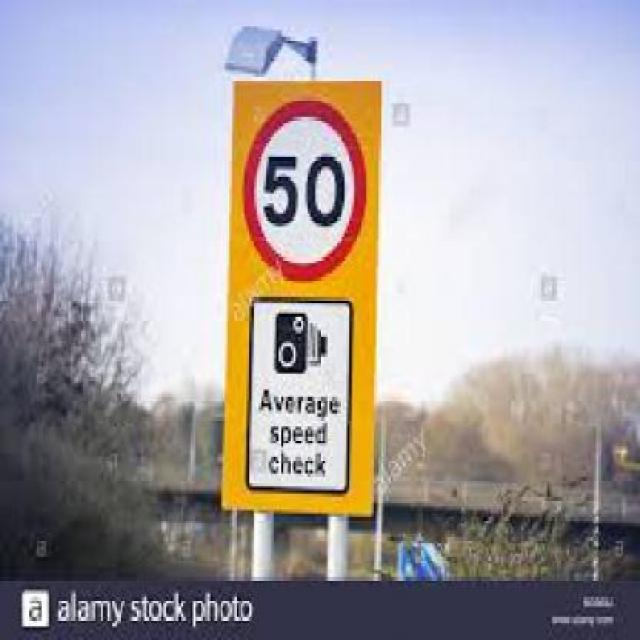forb_speed_over_50: (242, 93, 369, 284)
